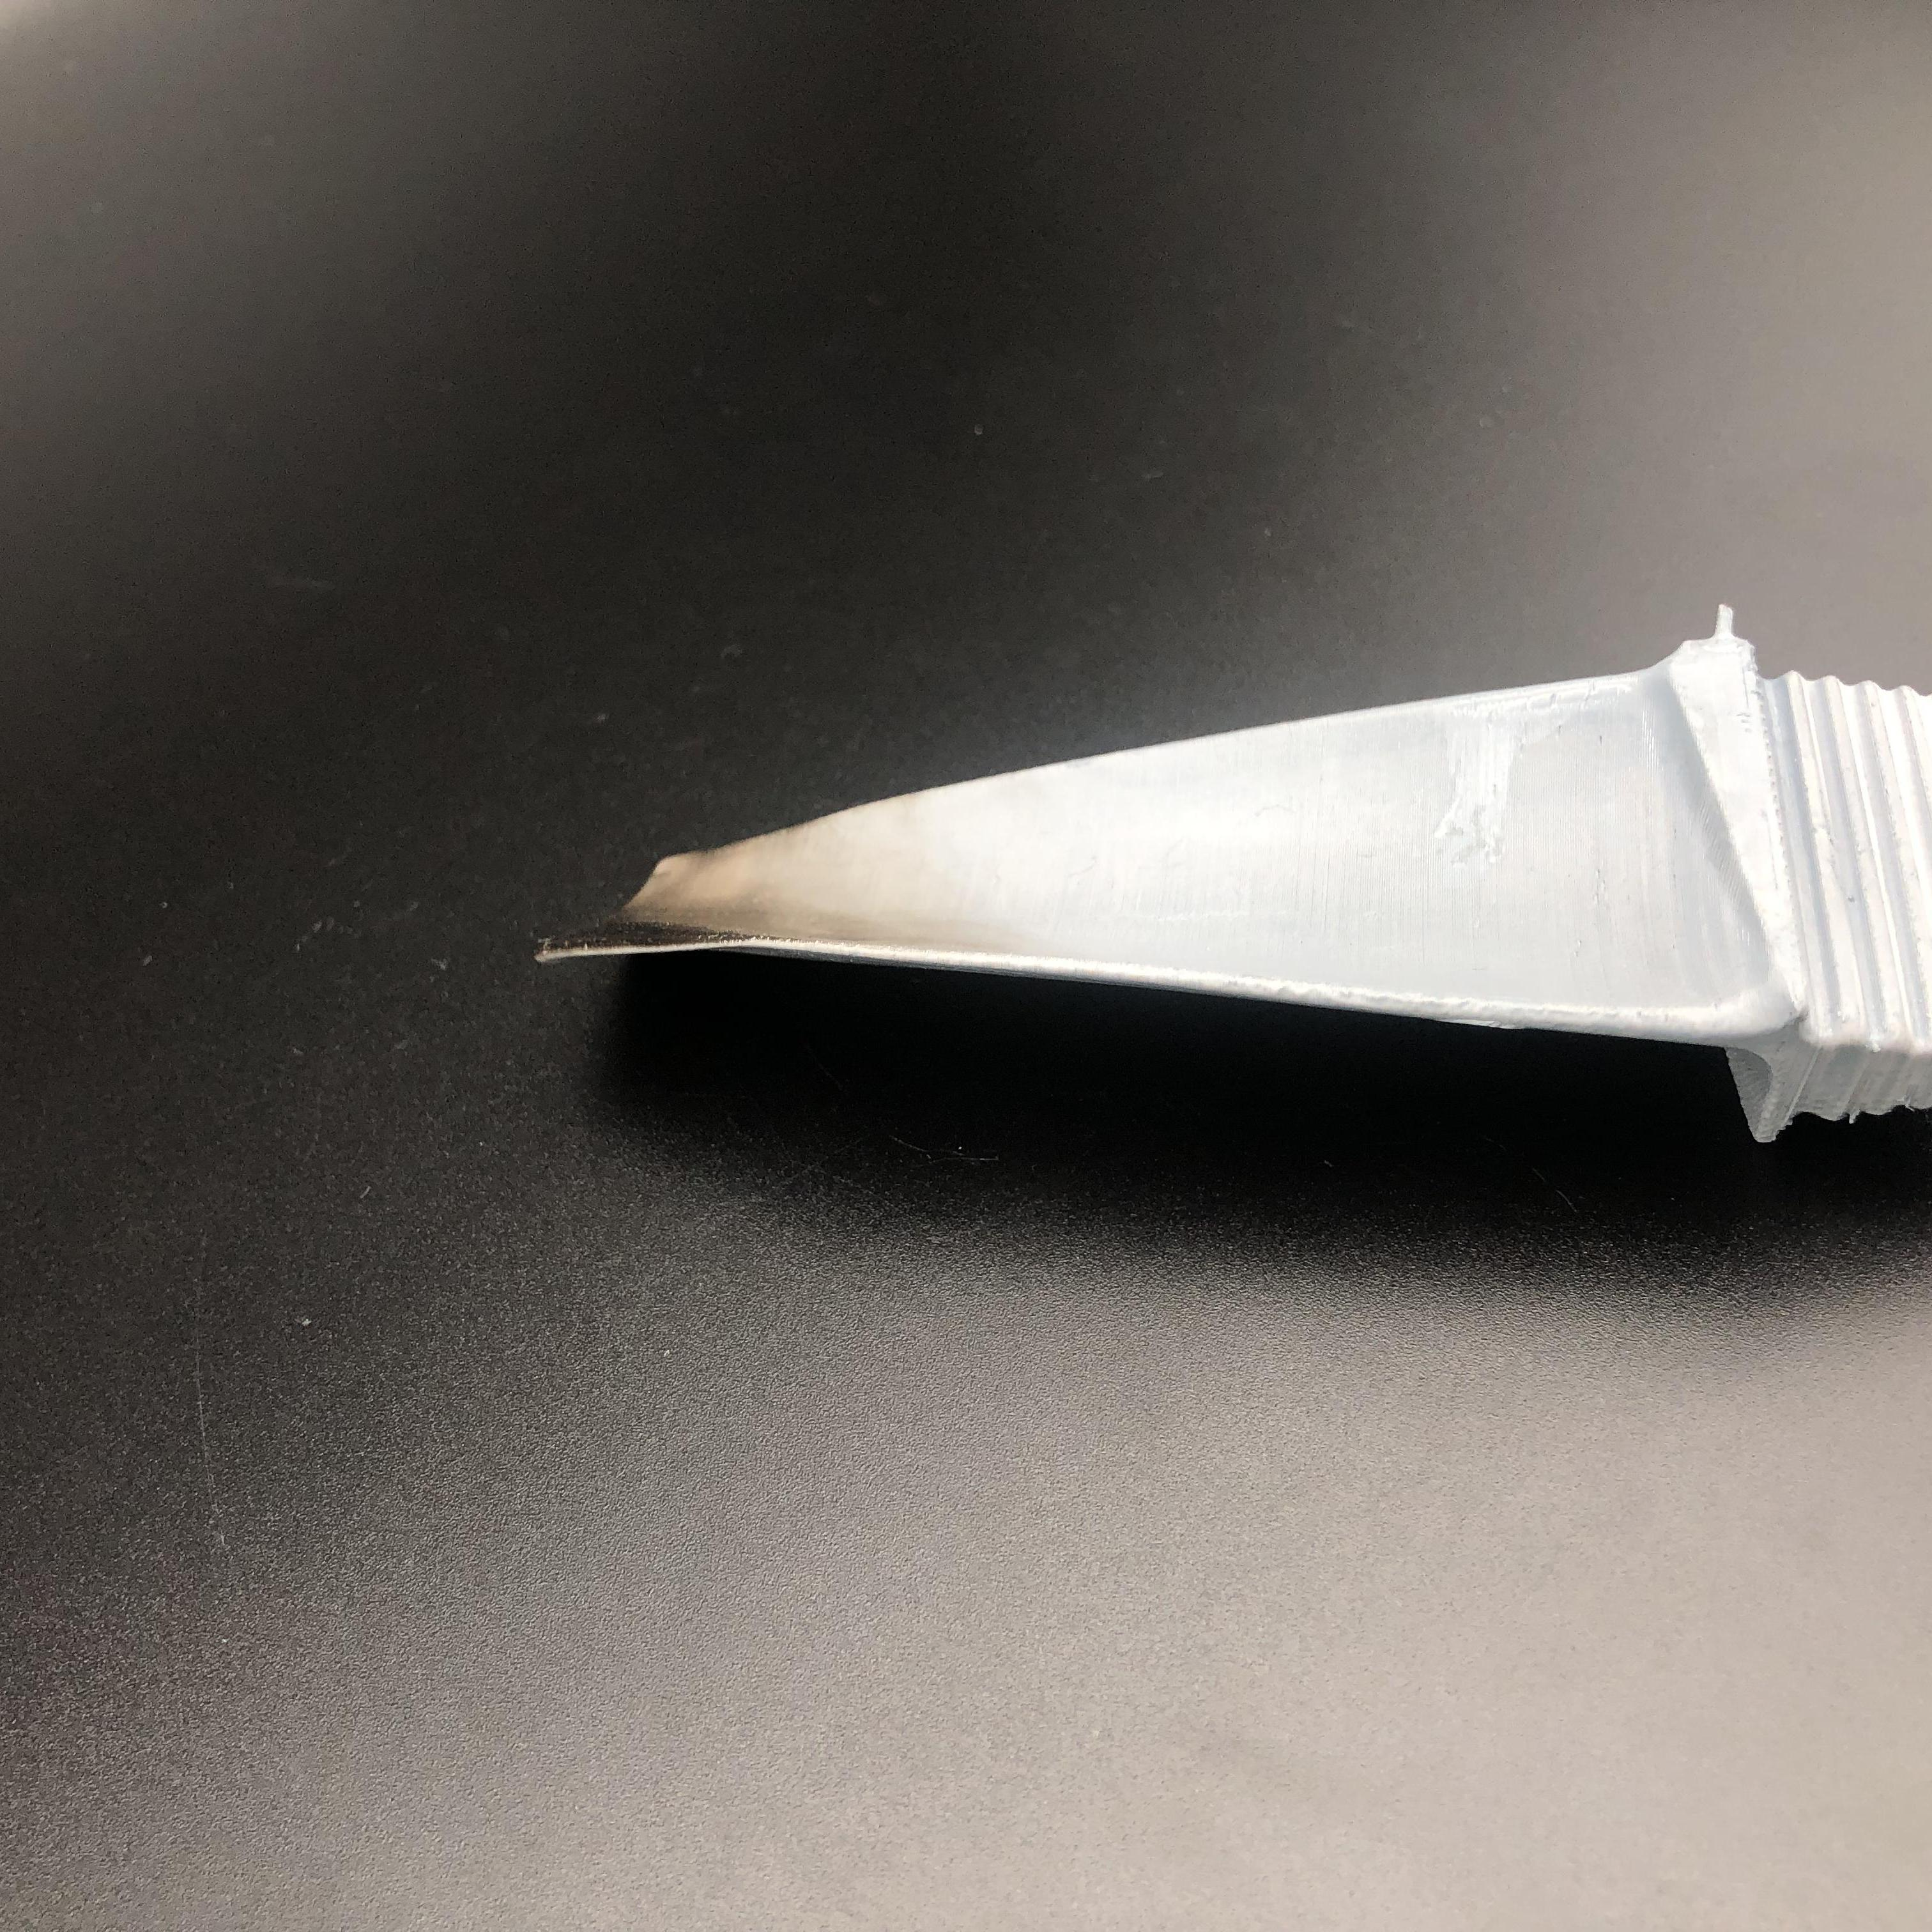ablation: (584, 869, 927, 948)
